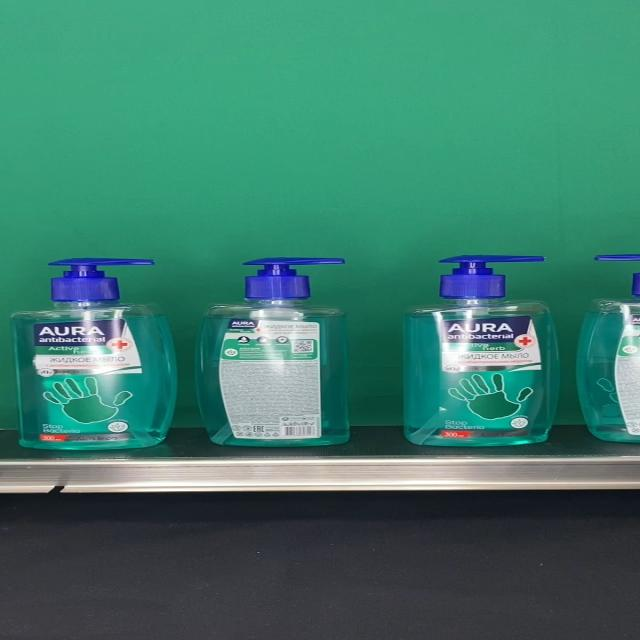Bottle: (10, 258, 177, 450), (401, 256, 561, 447), (198, 257, 350, 446)
Cap: (438, 256, 548, 298), (48, 258, 156, 300), (242, 258, 346, 300)
